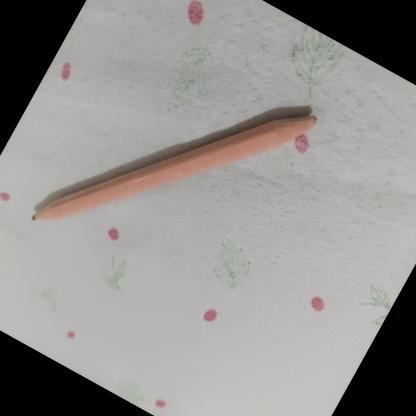pencil: (33, 113, 313, 221)
